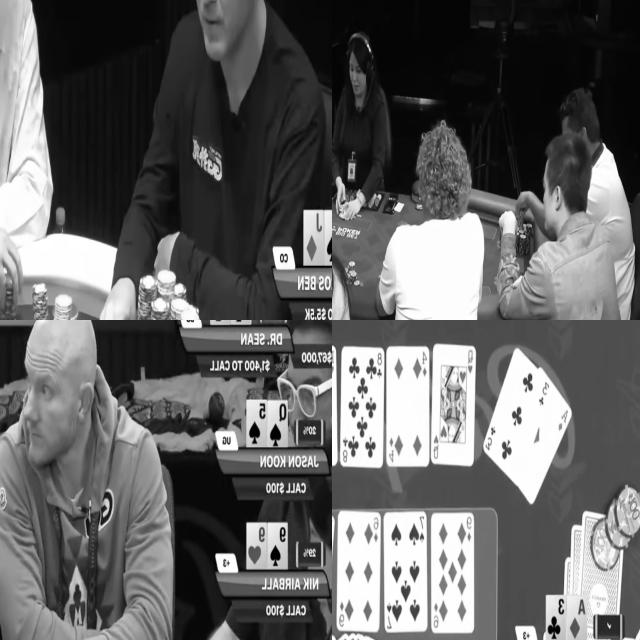3C: (545, 595, 565, 640)
5S: (246, 400, 266, 448)
9H: (247, 523, 266, 569)
9S: (268, 523, 287, 570)
AD: (566, 594, 586, 640)
AS: (324, 209, 332, 265)
JD: (303, 212, 324, 266)
QS: (268, 401, 288, 447)
